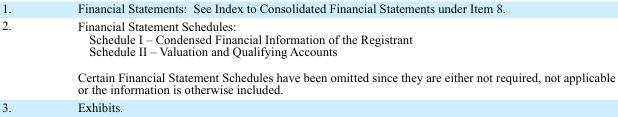table: (1, 1, 614, 113)
table column: (43, 1, 614, 113), (1, 1, 43, 113)
table row: (1, 16, 614, 97), (1, 97, 614, 113), (1, 1, 614, 16)
